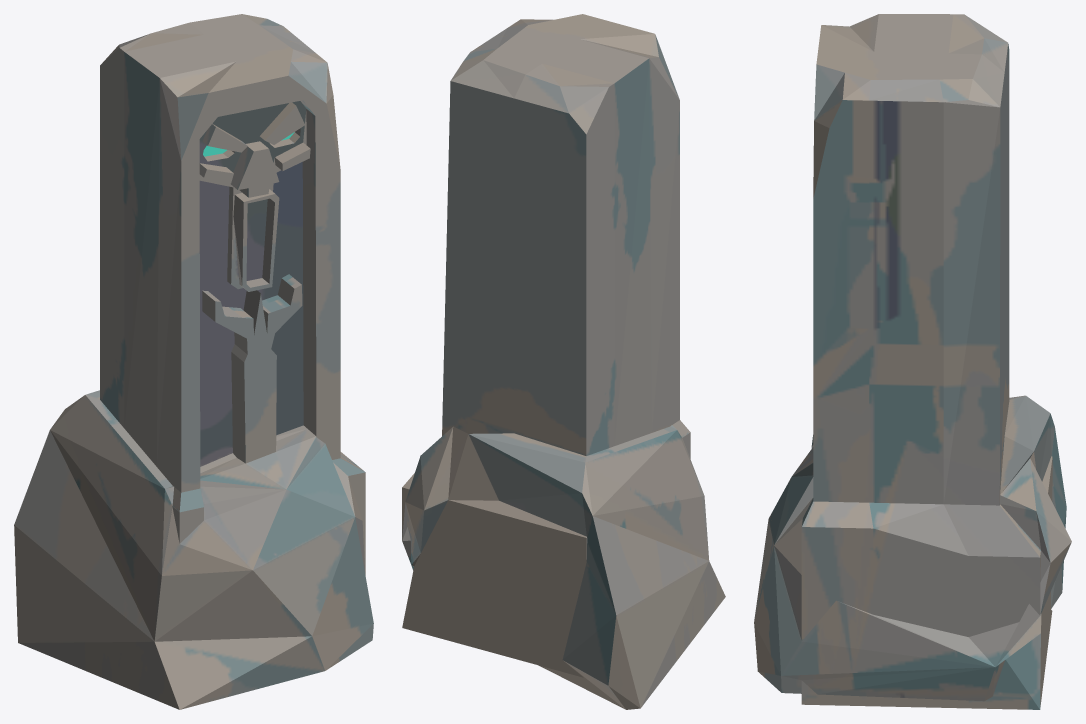
The model's file is s_stone ghost01_04.fbx.
3 renders of one model, left to right at view 1: azimuth 30°, elevation 25°; view 2: azimuth 150°, elevation 25°; view 3: azimuth 270°, elevation 25°, orthographic. The views are drawn at different scales.
Parts seen in each view (by area): view 1: s_stone ghost01_04; view 2: s_stone ghost01_04; view 3: s_stone ghost01_04.
Part boxes in pixels (bbox=[...]): s_stone ghost01_04: bbox=[14, 14, 373, 709]; s_stone ghost01_04: bbox=[402, 14, 725, 709]; s_stone ghost01_04: bbox=[754, 14, 1071, 709].
Size of the model in its own units: 170 by 383 by 173.
Materials: 1 (1 with a texture image).
